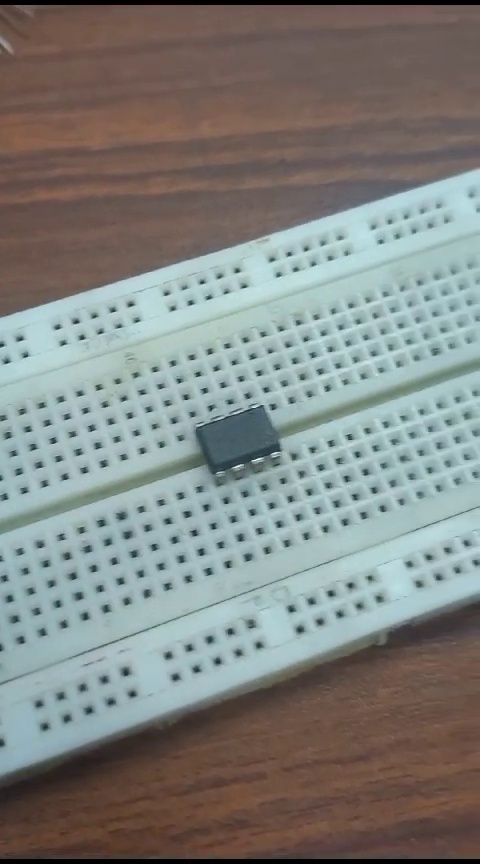IC: (184, 404, 282, 481)
